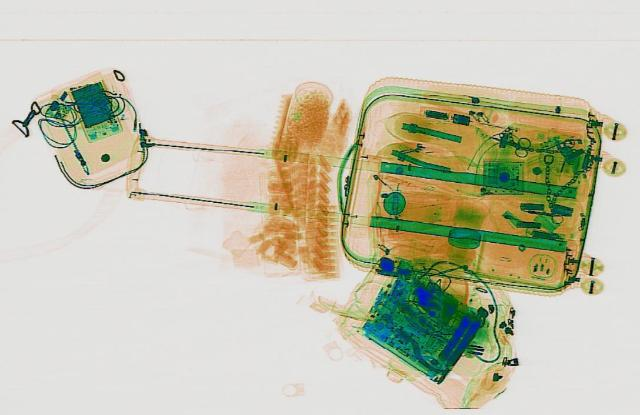Scissors: (482, 128, 538, 158)
